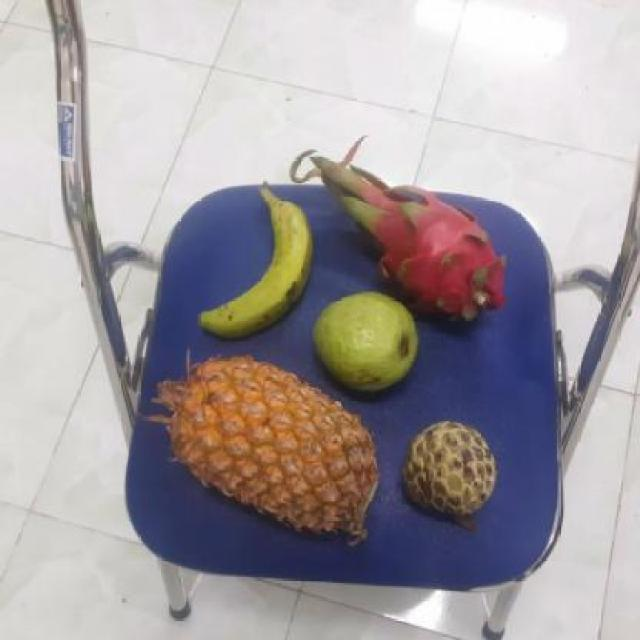banana: (192, 191, 316, 343)
dragon fruit: (355, 191, 495, 320)
guava: (306, 290, 420, 396)
pineapple: (158, 355, 379, 540)
sugar apple: (397, 422, 495, 522)
